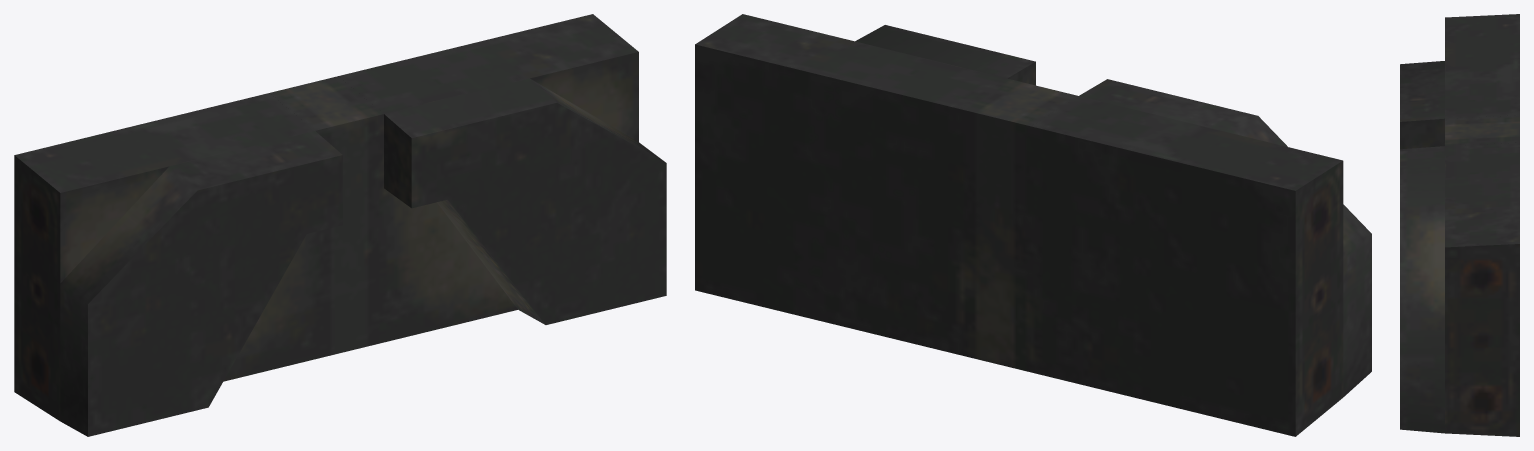
3 views of the same model, side by side, from view 1: azimuth 30°, elevation 25°; view 2: azimuth 150°, elevation 25°; view 3: azimuth 270°, elevation 25° (orthographic). The views are drawn at different scales.
Visible parts, largest first — view 1: set_0_group_0; view 2: set_0_group_0; view 3: set_0_group_0.
Part boxes in pixels (x1=…): set_0_group_0: x1=14, y1=14, x2=666, y2=436; set_0_group_0: x1=695, y1=14, x2=1371, y2=436; set_0_group_0: x1=1400, y1=14, x2=1519, y2=436.
Size of the model in its own units: 0.4311 by 0.1688 by 0.095.
1 material, 1 textured.
